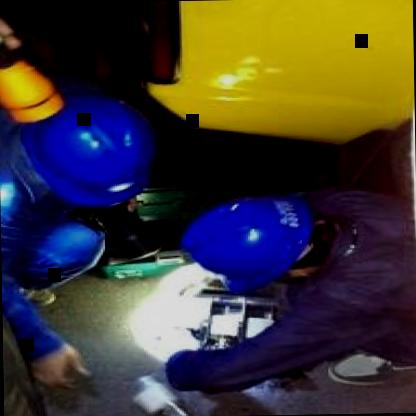helmet: (11, 91, 165, 210), (173, 195, 339, 300)
